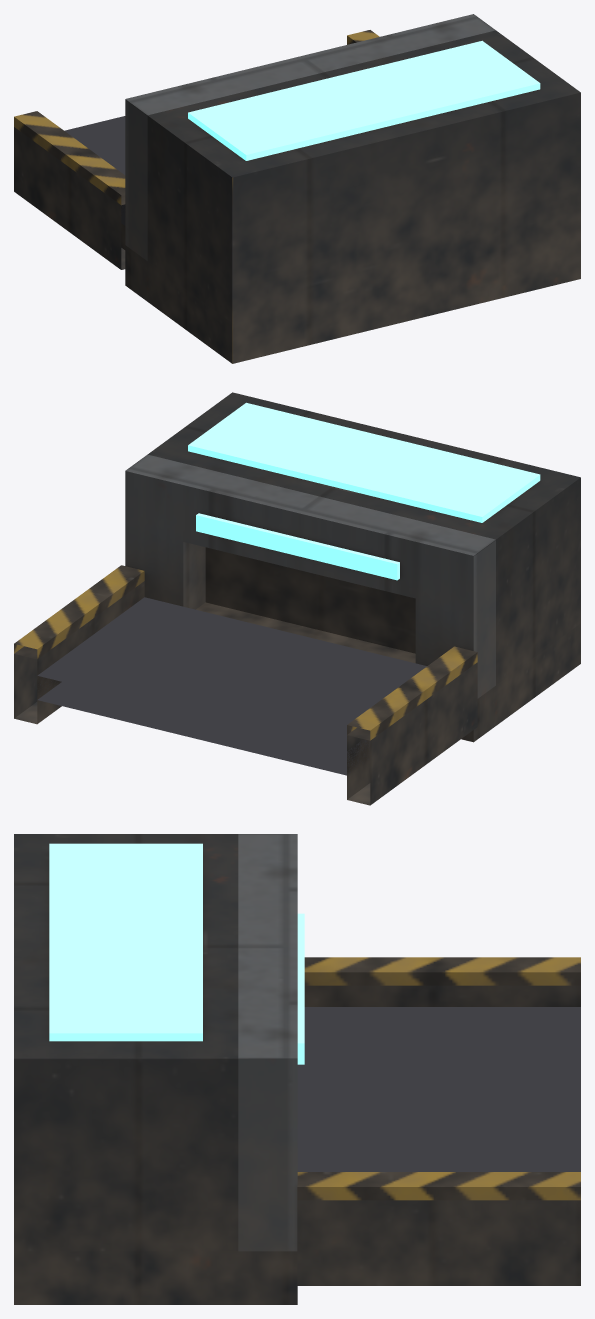
The model's file is esteira_tunel_saida.glb.
3 views of the same model, one above another, from view 1: azimuth 30°, elevation 25°; view 2: azimuth 150°, elevation 25°; view 3: azimuth 270°, elevation 25° (orthographic). The views are drawn at different scales.
Parts seen in each view (by area): view 1: esteira_tunel_saida; view 2: esteira_tunel_saida; view 3: esteira_tunel_saida.
Part boxes in pixels (box(x1,y1,x2,y2)): esteira_tunel_saida: box(14, 14, 580, 363); esteira_tunel_saida: box(14, 392, 580, 805); esteira_tunel_saida: box(14, 834, 580, 1304).
Bounding box in the file's own units: 0.92 × 0.475 × 0.96.
3 materials, 1 textured.
